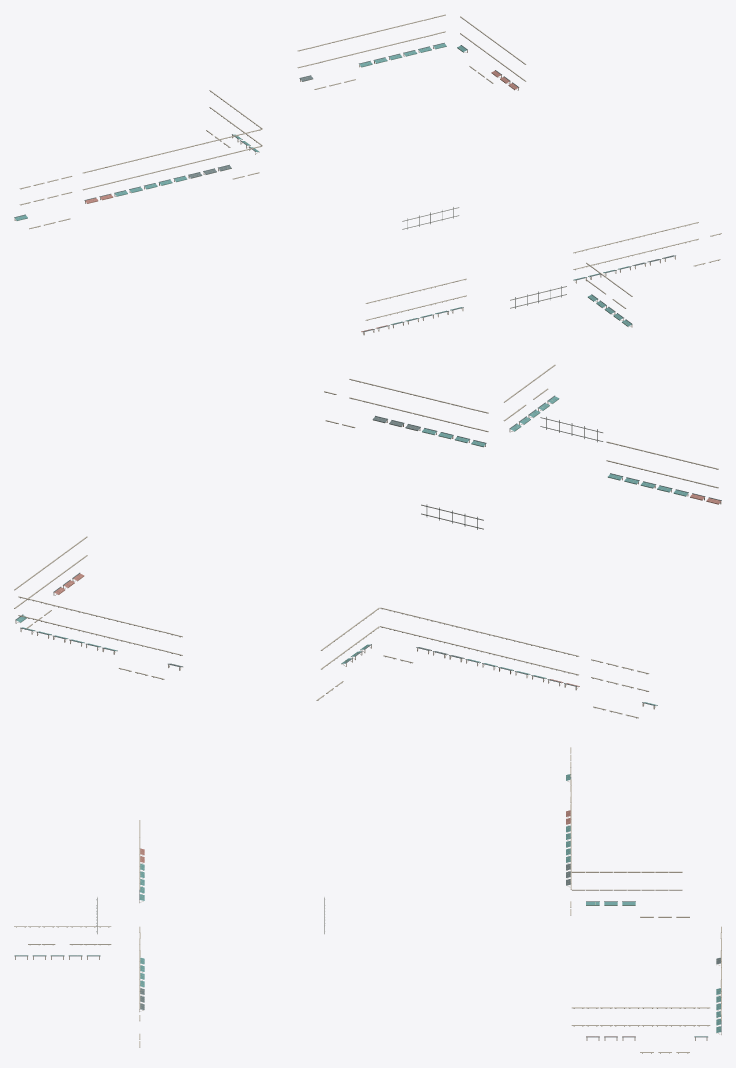
Rendered from police.glb.
The picture shows the model from 3 angles, top to bottom: view 1: azimuth 30°, elevation 25°; view 2: azimuth 150°, elevation 25°; view 3: azimuth 270°, elevation 25°; orthographic projection. The views are drawn at different scales.
Visible parts, largest first — view 1: stone, canvas, enamel, bronze; view 2: stone, canvas, enamel, bronze; view 3: stone, canvas, enamel.
Part boxes in pixels (x1,y1,x2,y2): stone: [19, 14, 721, 320]; canvas: [15, 43, 631, 326]; enamel: [14, 42, 675, 332]; bronze: [14, 16, 675, 335]; stone: [14, 364, 718, 718]; canvas: [16, 396, 688, 705]; enamel: [15, 395, 721, 705]; bronze: [15, 373, 721, 709]; stone: [14, 747, 721, 1053]; canvas: [15, 774, 720, 1036]; enamel: [14, 777, 721, 1037].
Bounding box in the file's own units: 104 × 8.42 × 118.
